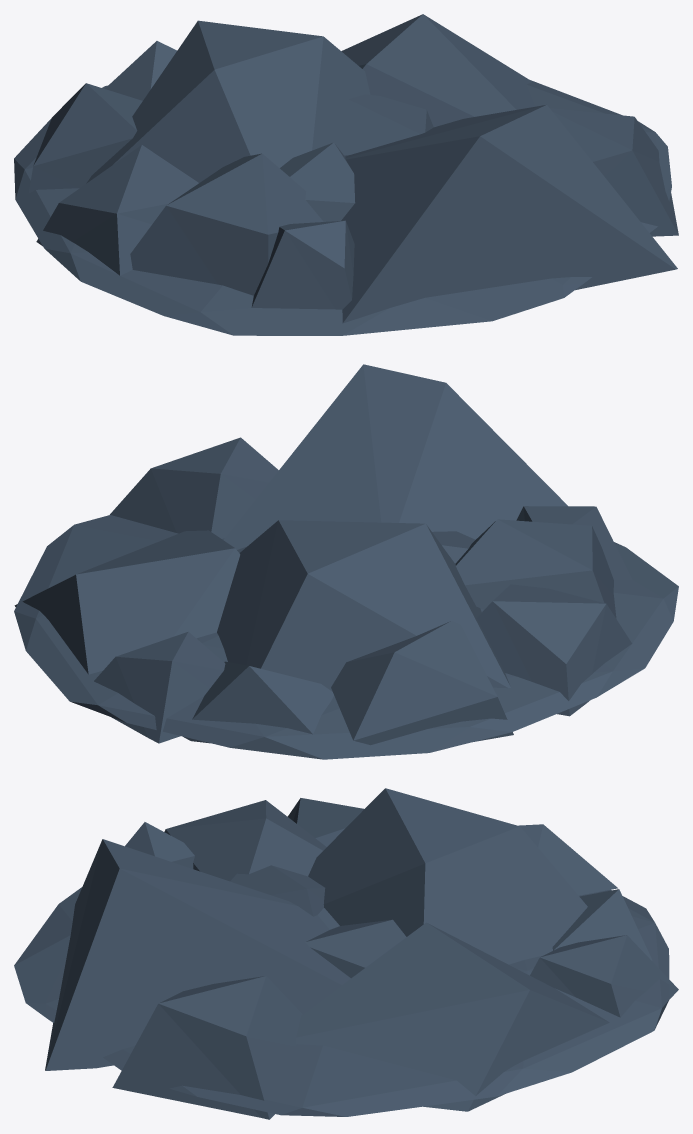
Rendered from IronPileBag.fbx.
3 views of the same model, one above another, from view 1: azimuth 30°, elevation 25°; view 2: azimuth 150°, elevation 25°; view 3: azimuth 270°, elevation 25° (orthographic).
Visible parts, largest first — view 1: IronPileBag; view 2: IronPileBag; view 3: IronPileBag.
Boxes of the visible parts, x1=… form: IronPileBag: x1=14, y1=14, x2=678, y2=335; IronPileBag: x1=14, y1=364, x2=678, y2=759; IronPileBag: x1=14, y1=788, x2=678, y2=1119.
Bounding box in the file's own units: 33.94 × 8.93 × 33.98.
